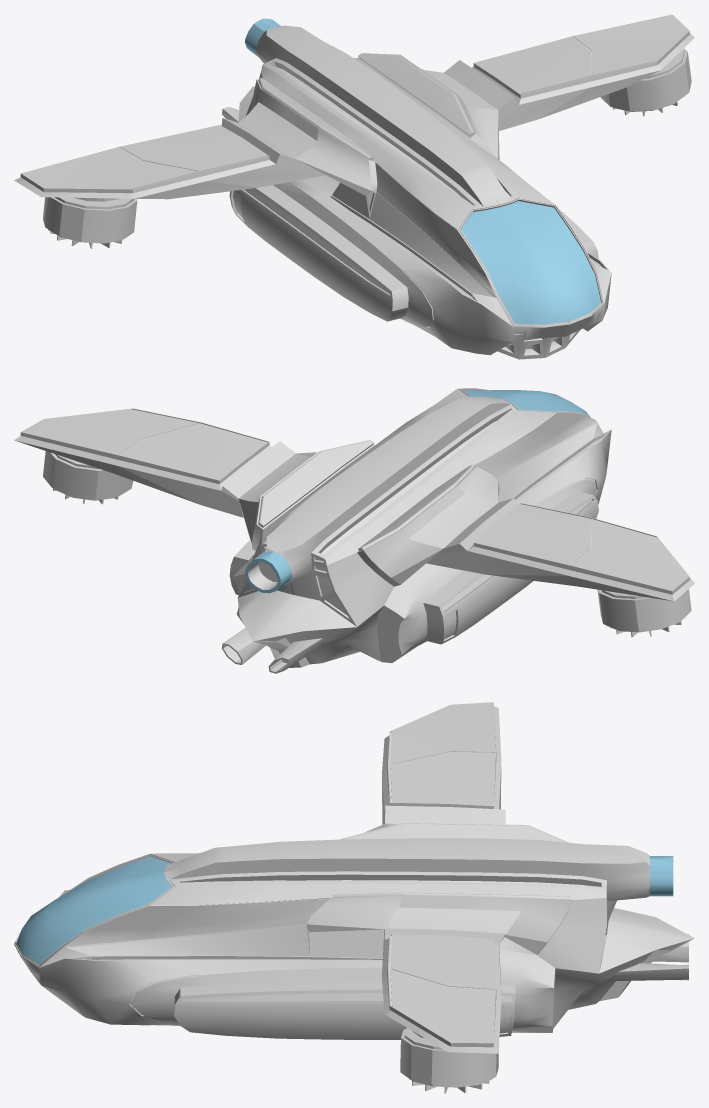
File: Spaceplane.fbx
The picture shows the model from 3 angles, top to bottom: view 1: azimuth 30°, elevation 25°; view 2: azimuth 150°, elevation 25°; view 3: azimuth 270°, elevation 25°; orthographic projection. The views are drawn at different scales.
Visible parts, largest first — view 1: Scifi Scoutcraft; view 2: Scifi Scoutcraft; view 3: Scifi Scoutcraft.
Part boxes in pixels (left/top/right/bottom): Scifi Scoutcraft: left=14, top=14, right=694, bottom=359; Scifi Scoutcraft: left=14, top=388, right=694, bottom=673; Scifi Scoutcraft: left=14, top=702, right=694, bottom=1093.
Size of the model in its own units: 1874 by 407 by 1559.
